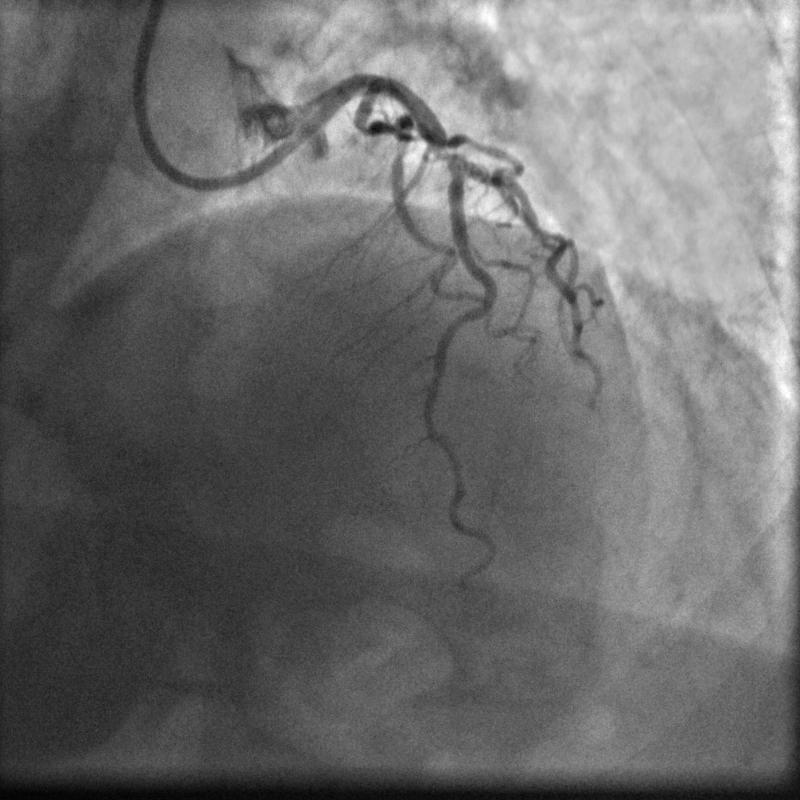Stenosis: (424, 139, 461, 160)
